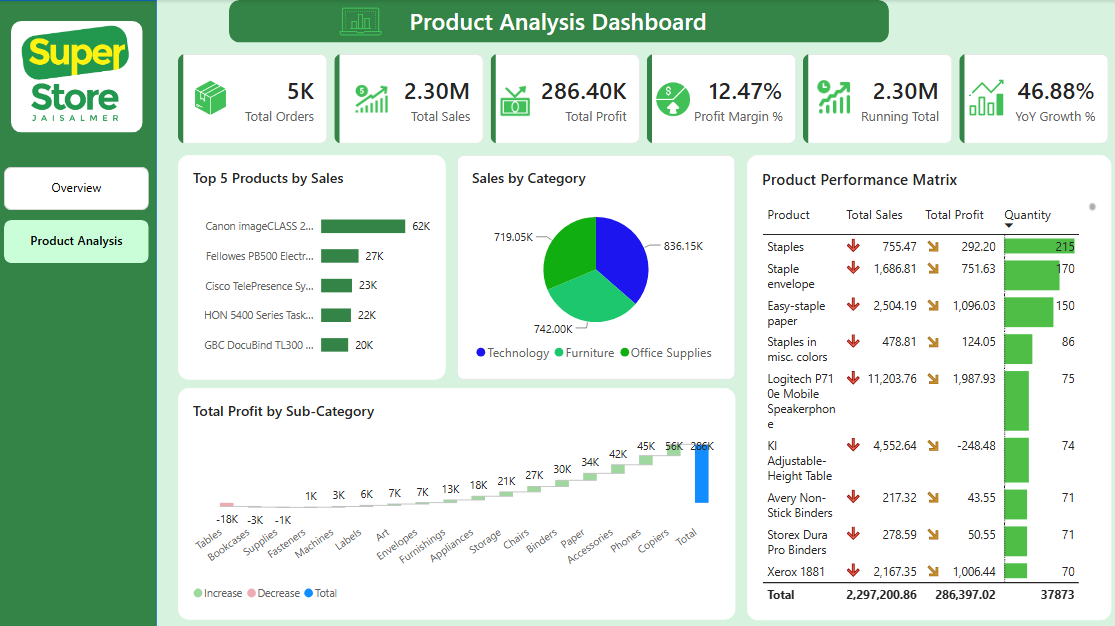

The dashboard page shown, as its layout file describes it:
{"tool":"powerbi","page":{"name":"Product Analysis","canvas":[1280,720],"ordinal":1},"visuals":[{"type":"shape","box":[264.1,0,751.8,48.5],"z":0},{"type":"shape","box":[0,0,181.9,719.5],"z":1000},{"type":"image","box":[16.2,24.3,149.6,126.7],"z":2000},{"type":"textbox","box":[288.3,5.4,702,37.7],"z":3000},{"type":"cardVisual","fields":{"Data":["DAX Measures.Total Orders","DAX Measures.Total Sales","DAX Measures.Total Profit","DAX Measures.Profit Margin %","DAX Measures.Running Total","DAX Measures.YoY Growth %"]},"box":[206.1,62,1063.1,102.4],"z":4000},{"type":"tableEx","title":"Product Performance Matrix","fields":{"Values":["Dim Products.Product Name","DAX Measures.Total Sales","DAX Measures.Total Profit","Sum(Fact Orders.Quantity)"]},"box":[854.2,176.5,415,529.5],"z":5000},{"type":"barChart","title":"Top 5 Products by Sales","fields":{"Category":["Dim Products.Product Name"],"Y":["DAX Measures.Total Sales"]},"box":[206.1,176.5,304.5,256],"z":6000},{"type":"waterfallChart","fields":{"Category":["Dim Products.Sub-Category"],"Y":["DAX Measures.Total Profit"]},"box":[206.1,441.9,634.6,264.1],"z":7000},{"type":"pieChart","title":"Sales by Category","fields":{"Category":["Dim Products.Category"],"Y":["DAX Measures.Total Sales"]},"box":[524.1,176.5,316.6,256],"z":8000},{"type":"pageNavigator","box":[8.1,190,165.7,49.9],"z":9000},{"type":"pageNavigator","box":[8.1,250.6,165.7,49.9],"z":9001},{"type":"image","box":[931,84.5,47.2,53.9],"z":9002},{"type":"image","box":[1103.5,89.9,47.2,41.8],"z":9003},{"type":"image","box":[747.8,91.3,45.8,44.5],"z":9004},{"type":"image","box":[569.9,91.3,41.8,47.2],"z":9005},{"type":"image","box":[402.9,91.3,47.2,44.5],"z":9006},{"type":"image","box":[222.3,84.5,41.8,53.9],"z":9007},{"type":"image","box":[373.2,0,80.8,48.5],"z":9008}]}

Visuals, with their boxes on the page's 1280x720 design canvas (x1, y1, x2, y2). These are canvas units, not pixel positions in the 1115x626 screenshot, which may show the page scaled, cropped or inside an application window:
shape: rect(264, 0, 1016, 48)
shape: rect(0, 0, 182, 720)
image: rect(16, 24, 166, 151)
textbox: rect(288, 5, 990, 43)
cardVisual - DAX Measures.Total Orders x DAX Measures.Total Sales: rect(206, 62, 1269, 164)
"Product Performance Matrix" tableEx: rect(854, 176, 1269, 706)
"Top 5 Products by Sales" barChart: rect(206, 176, 511, 432)
waterfallChart - Dim Products.Sub-Category x DAX Measures.Total Profit: rect(206, 442, 841, 706)
"Sales by Category" pieChart: rect(524, 176, 841, 432)
pageNavigator: rect(8, 190, 174, 240)
pageNavigator: rect(8, 251, 174, 300)
image: rect(931, 84, 978, 138)
image: rect(1104, 90, 1151, 132)
image: rect(748, 91, 794, 136)
image: rect(570, 91, 612, 138)
image: rect(403, 91, 450, 136)
image: rect(222, 84, 264, 138)
image: rect(373, 0, 454, 48)
